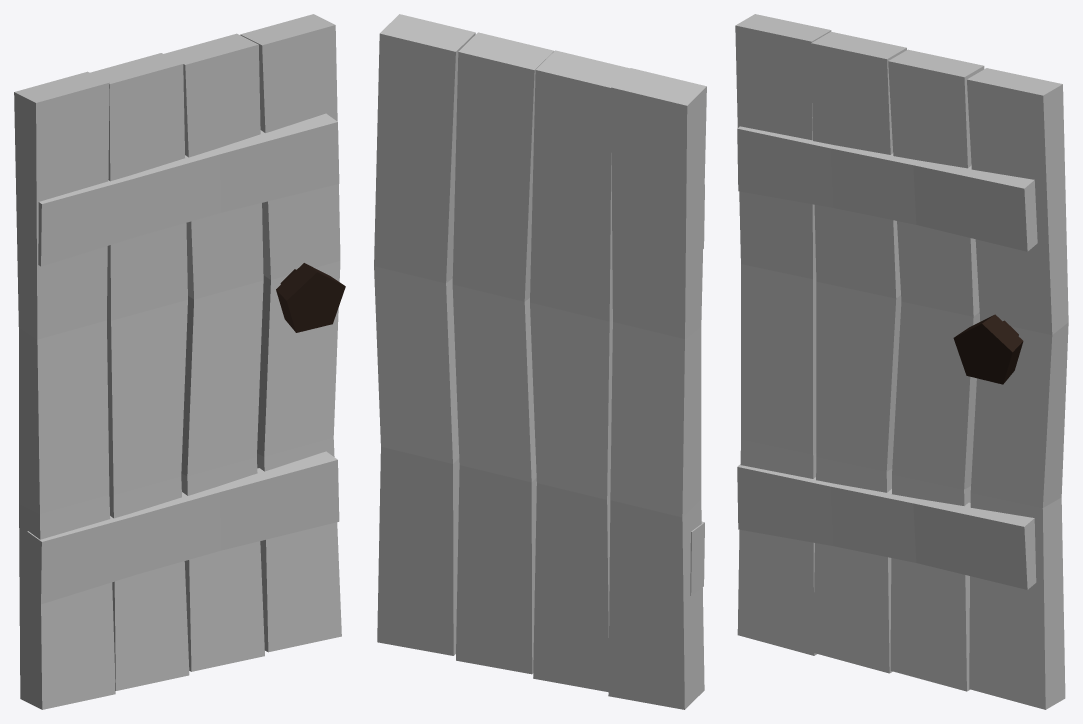
The model's file is Door.fbx.
3 views of the same model, side by side, from view 1: azimuth 30°, elevation 25°; view 2: azimuth 150°, elevation 25°; view 3: azimuth 330°, elevation 25° (orthographic).
Parts seen in each view (by area): view 1: Cylinder.001; view 2: Cylinder.001; view 3: Cylinder.001.
Boxes of the visible parts, left/top/right/bottom form: Cylinder.001: left=14, top=14, right=345, bottom=709; Cylinder.001: left=374, top=14, right=706, bottom=709; Cylinder.001: left=735, top=14, right=1068, bottom=709.
Bounding box in the file's own units: 279 × 526 × 65.48.
